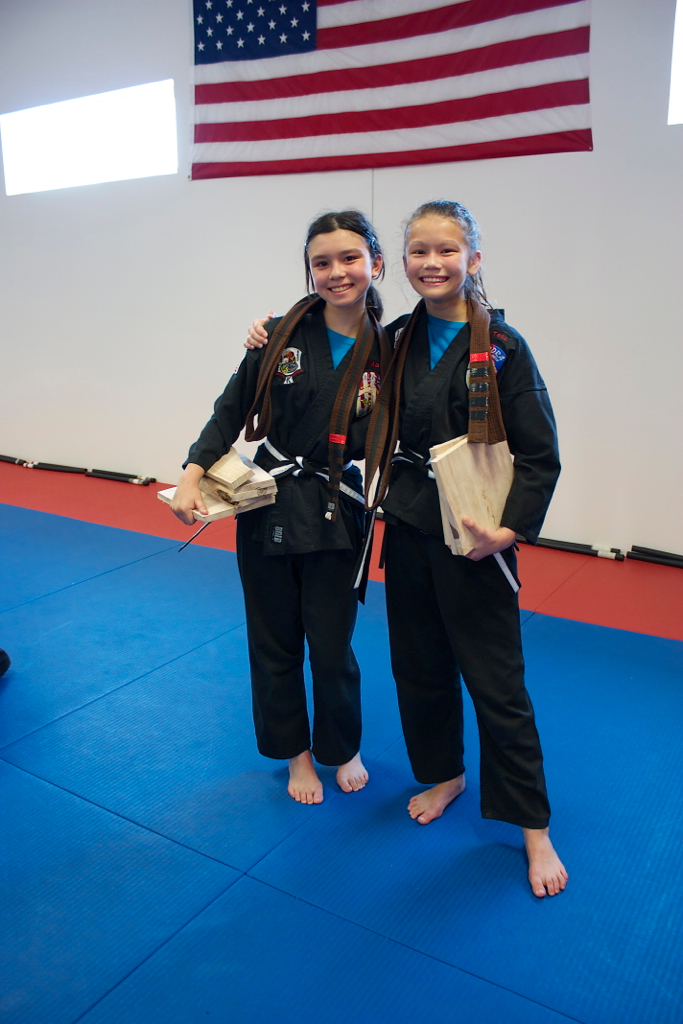Person: (242, 201, 570, 899), (169, 206, 395, 804)
